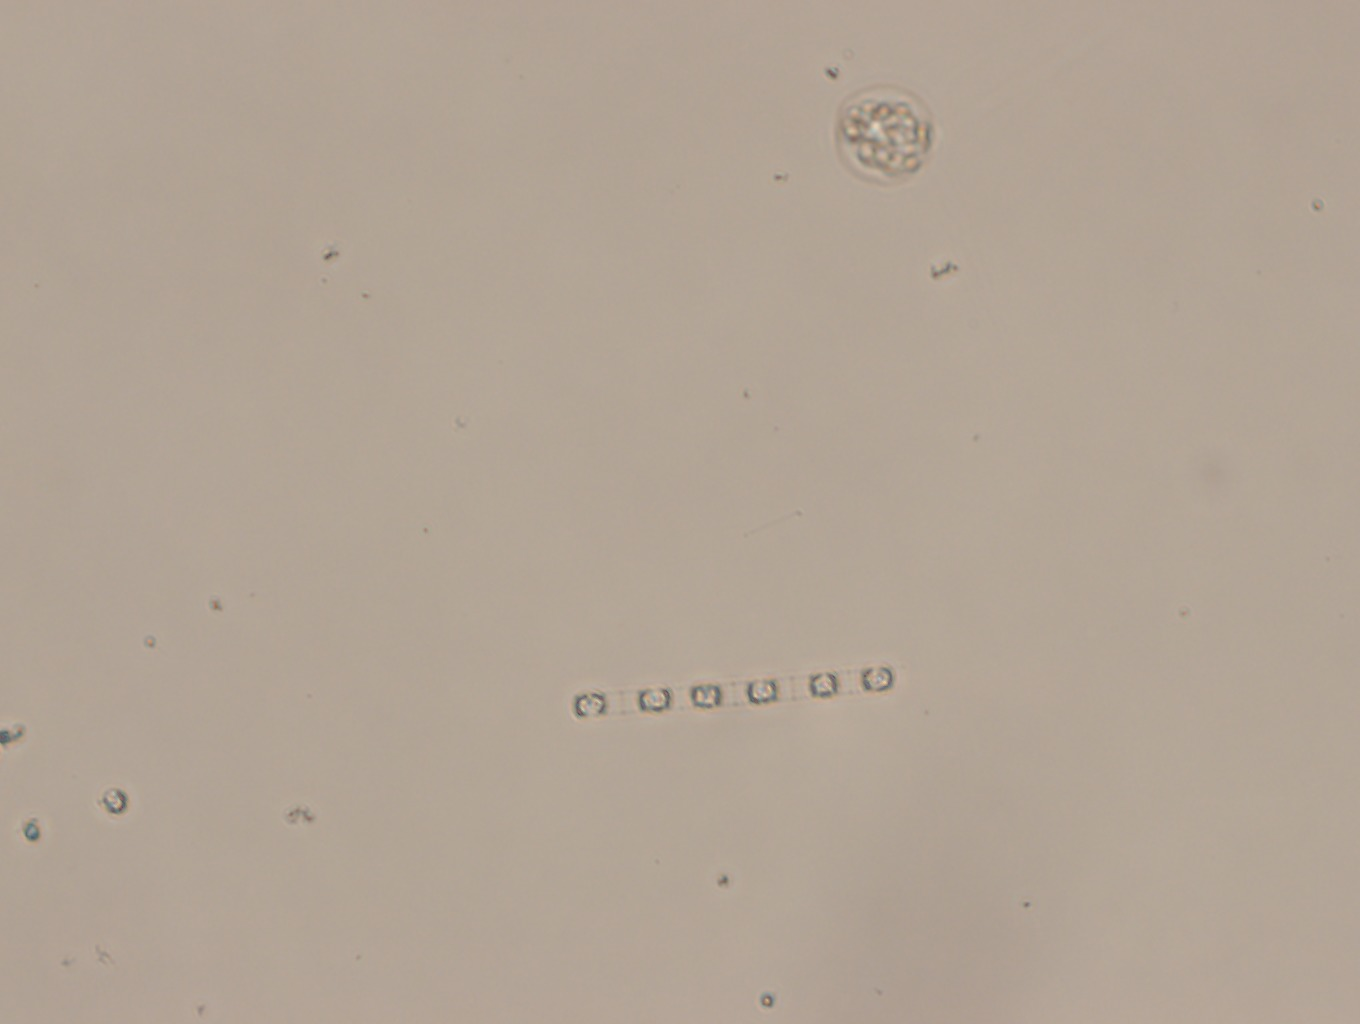skeletonema: (556, 652, 919, 724)
